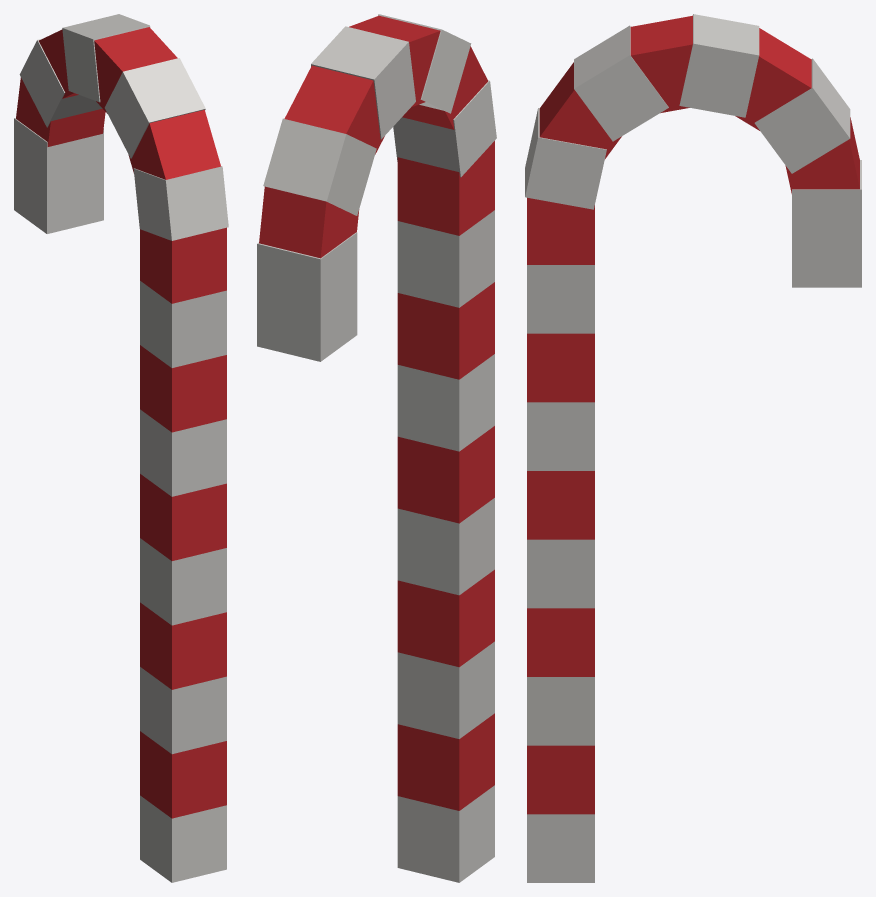
File: candy_cane.glb
3 views of the same model, side by side, from view 1: azimuth 30°, elevation 25°; view 2: azimuth 150°, elevation 25°; view 3: azimuth 270°, elevation 25° (orthographic). The views are drawn at different scales.
Visible parts, largest first — view 1: candy_cane; view 2: candy_cane; view 3: candy_cane.
Boxes of the visible parts, <box> form: candy_cane: <box>14,14,228,882</box>; candy_cane: <box>257,14,496,882</box>; candy_cane: <box>525,14,861,882</box>.
Bounding box in the file's own units: 0.2266 × 3 × 1.09.
